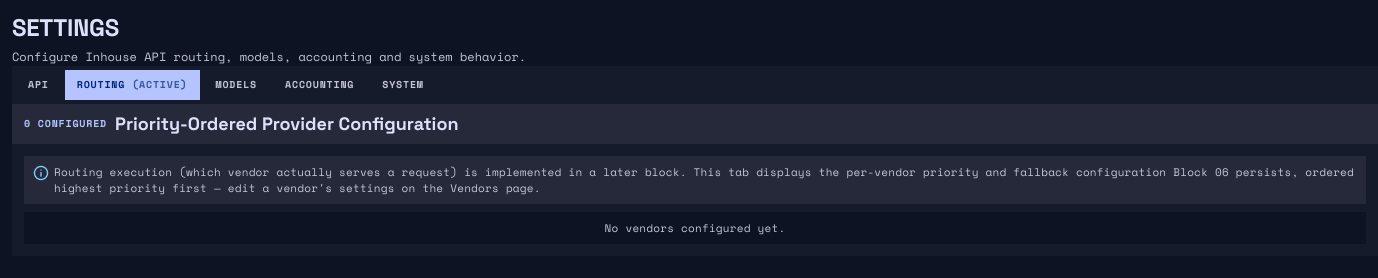
it: Settings — Models tab › renders the Model Catalog panel when the Models tab is selected
Click the button "Models": (236, 85) top-left (204, 70), bottom-right (269, 100)
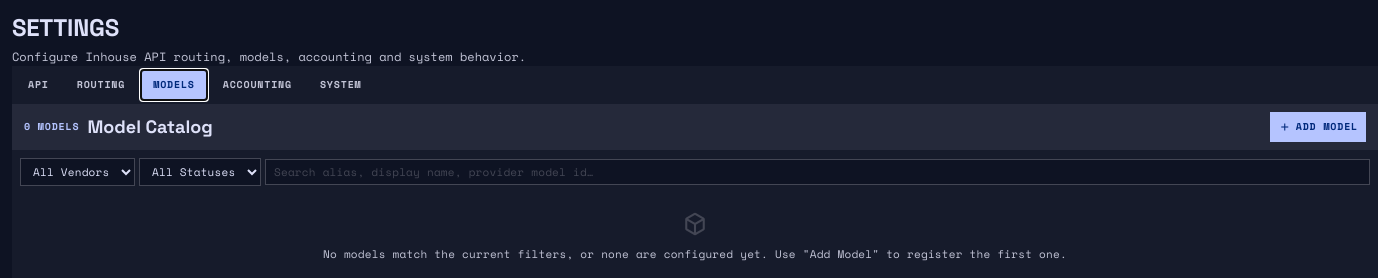
Expected: the text "Model Catalog" is shown, top-left (87, 115), bottom-right (213, 139)
